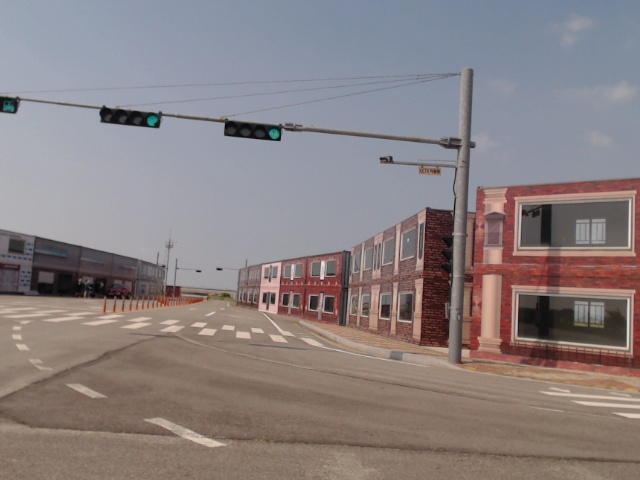straight_green_4: (100, 107, 160, 131), (224, 121, 282, 141)
